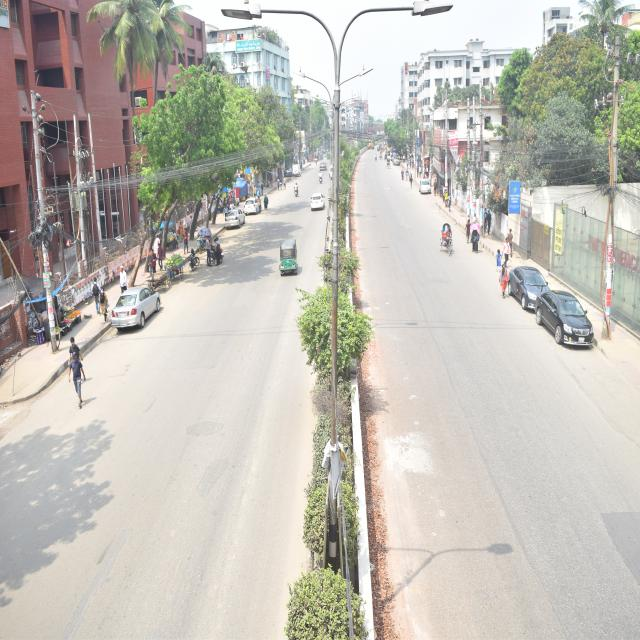car: (537, 274, 598, 368), (492, 238, 559, 320), (105, 280, 189, 340), (219, 195, 248, 249), (416, 171, 448, 207), (240, 193, 266, 217), (310, 186, 327, 218), (328, 159, 340, 187), (319, 156, 332, 178)
motorbike: (206, 238, 232, 284), (183, 243, 206, 288), (290, 170, 306, 204), (315, 160, 328, 191)
pickup-van: (286, 155, 311, 192)
